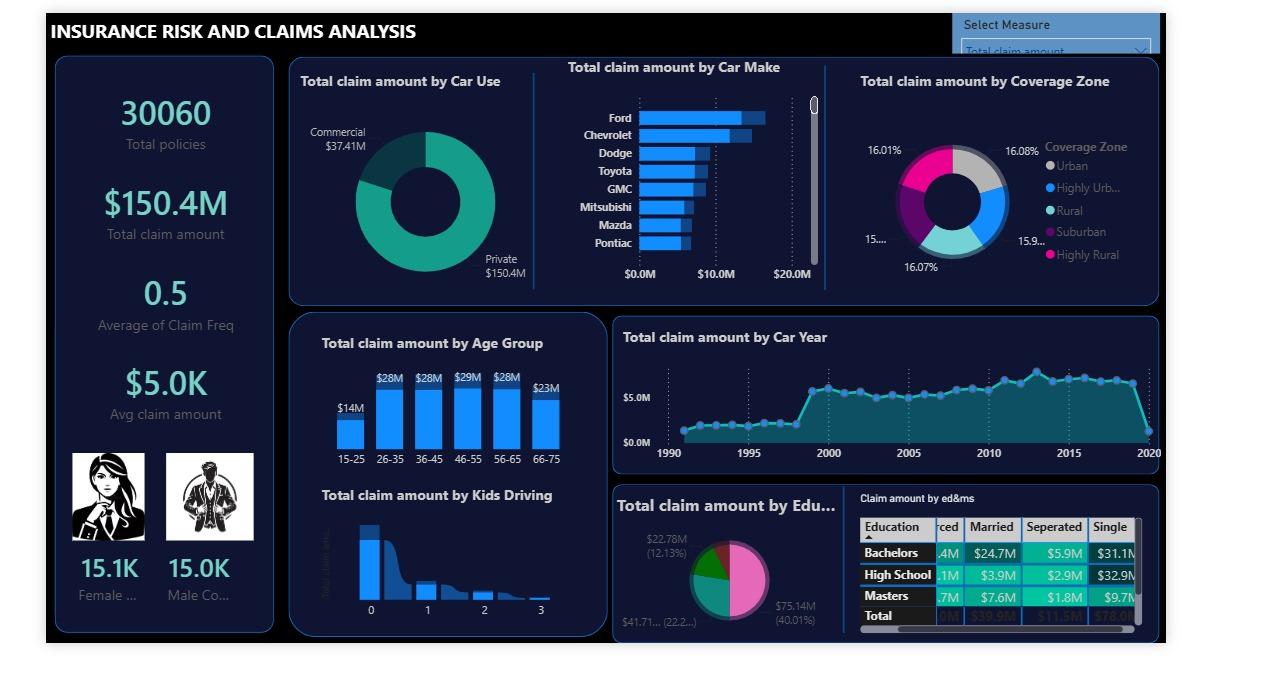

Layout of this report page (visuals, bound fields, positions):
{"tool":"powerbi","page":{"name":"Page 1","canvas":[1280,720],"ordinal":0},"visuals":[{"type":"textbox","box":[0,0,742.4,48.8],"z":0},{"type":"shape","box":[9.5,48.8,250.6,659.8],"z":1000},{"type":"cardVisual","fields":{"Data":["insurance_data_car.Total policies","insurance_data_car.Total claim amount","Avg(insurance_data_car.Claim Freq)","insurance_data_car.Avg claim amount"]},"box":[10.8,50.1,251.1,459.7],"z":2000},{"type":"cardVisual","fields":{"Data":["insurance_data_car.Female Count","insurance_data_car.Male Count"]},"box":[0,590.1,452.8,107],"z":3000},{"type":"image","box":[135.8,502.2,102.9,100.2],"z":4000},{"type":"image","box":[22,502.2,100,100],"z":5000},{"type":"shape","box":[277,50.2,995.2,285.1],"z":6000},{"type":"donutChart","fields":{"Y":["insurance_data_car.Total claim amount"],"Category":["insurance_data_car.Car Use"]},"box":[286.5,59.7,296.4,267.6],"z":7000},{"type":"slicer","fields":{"Values":["Select Measure.Select Measure"]},"box":[1035.9,0,237.6,46.2],"z":8000},{"type":"clusteredBarChart","fields":{"Y":["insurance_data_car.Total claim amount"],"Category":["insurance_data_car.Car Make"]},"box":[574.3,59.7,296,267],"z":9000},{"type":"donutChart","fields":{"Y":["insurance_data_car.Total claim amount"],"Category":["insurance_data_car.Coverage Zone"]},"box":[925.9,65.2,328,267.6],"z":10000},{"type":"shape","box":[277,342.1,364.8,371.6],"z":11000},{"type":"columnChart","fields":{"Y":["insurance_data_car.Total claim amount"],"Category":["insurance_data_car.Age Group"]},"box":[309.5,365.2,301.1,162.7],"z":12000},{"type":"ribbonChart","fields":{"Y":["insurance_data_car.Total claim amount"],"Category":["insurance_data_car.Kids Driving"]},"box":[309.5,539,300,162],"z":13000},{"type":"shape","box":[647.6,346.2,625.2,181.7],"z":14000},{"type":"areaChart","fields":{"Y":["insurance_data_car.Total claim amount"],"Category":["insurance_data_car.Car Year"]},"box":[654.4,358.4,625.2,162.7],"z":15000},{"type":"shape","box":[647.6,539,625.2,181.7],"z":16000},{"type":"pieChart","fields":{"Y":["insurance_data_car.Total claim amount"],"Category":["insurance_data_car.Education"]},"box":[647.6,548.5,268.5,164.1],"z":17000},{"type":"pivotTable","title":"Claim amount by ed&ms","fields":{"Rows":["insurance_data_car.Education"],"Columns":["insurance_data_car.Marital Status"],"Values":["insurance_data_car.Total claim amount"]},"box":[925.9,547.1,332.3,166.8],"z":18000},{"type":"shape","box":[533.6,69.2,48.9,247.1],"z":19000},{"type":"shape","box":[886.6,541.7,48.9,167],"z":20000},{"type":"shape","box":[870.3,59.7,40.7,256.6],"z":21000}]}

Visuals, with their boxes on the page's 1280x720 design canvas (x1, y1, x2, y2). These are canvas units, not pixel positions in the 1273x691 screenshot, which may show the page scaled, cropped or inside an application window:
textbox: (0,0,742,49)
shape: (10,49,260,709)
cardVisual - insurance_data_car.Total policies x insurance_data_car.Total claim amount: (11,50,262,510)
cardVisual - insurance_data_car.Female Count x insurance_data_car.Male Count: (0,590,453,697)
image: (136,502,239,602)
image: (22,502,122,602)
shape: (277,50,1272,335)
donutChart - insurance_data_car.Total claim amount x insurance_data_car.Car Use: (286,60,583,327)
slicer - Select Measure.Select Measure: (1036,0,1274,46)
clusteredBarChart - insurance_data_car.Total claim amount x insurance_data_car.Car Make: (574,60,870,327)
donutChart - insurance_data_car.Total claim amount x insurance_data_car.Coverage Zone: (926,65,1254,333)
shape: (277,342,642,714)
columnChart - insurance_data_car.Total claim amount x insurance_data_car.Age Group: (310,365,611,528)
ribbonChart - insurance_data_car.Total claim amount x insurance_data_car.Kids Driving: (310,539,610,701)
shape: (648,346,1273,528)
areaChart - insurance_data_car.Total claim amount x insurance_data_car.Car Year: (654,358,1280,521)
shape: (648,539,1273,721)
pieChart - insurance_data_car.Total claim amount x insurance_data_car.Education: (648,548,916,713)
"Claim amount by ed&ms" pivotTable: (926,547,1258,714)
shape: (534,69,582,316)
shape: (887,542,936,709)
shape: (870,60,911,316)
